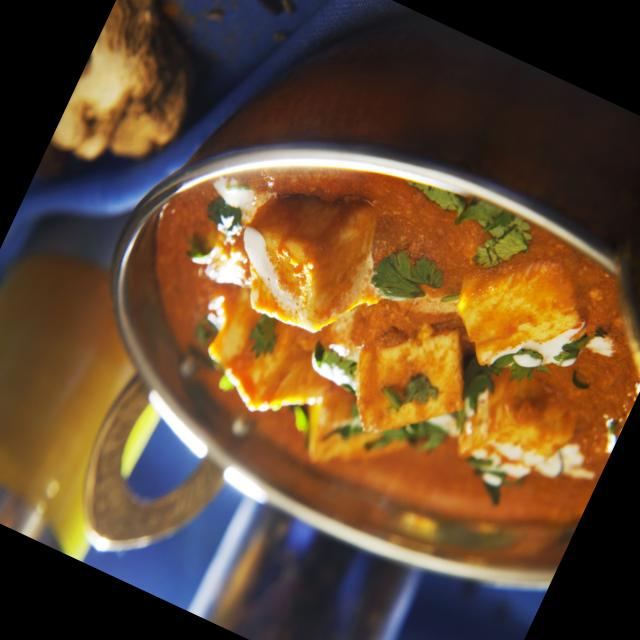ShahiPaneer: (86, 84, 640, 591)
